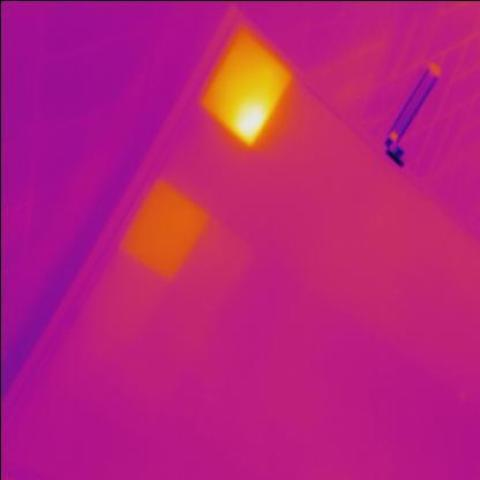fault: (228, 100, 269, 141)
